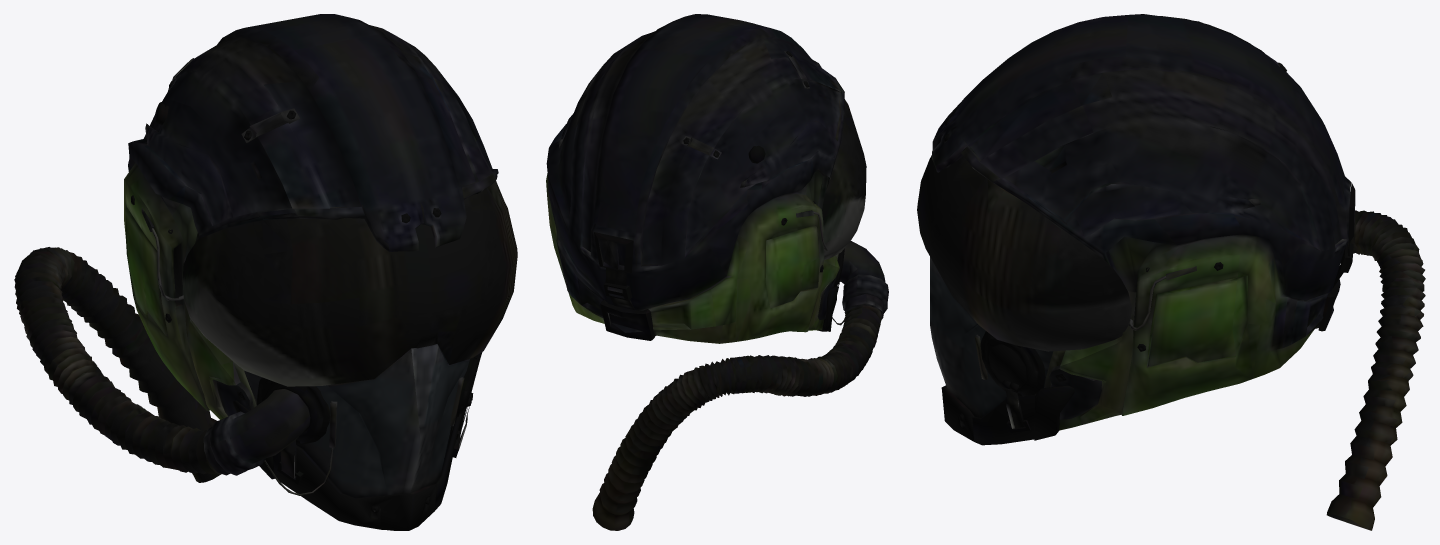
The model's file is item.armor.verdant_vulture_helmet.glb.
The picture shows the model from 3 angles, left to right: view 1: azimuth 30°, elevation 25°; view 2: azimuth 150°, elevation 25°; view 3: azimuth 270°, elevation 25°; orthographic projection. The views are drawn at different scales.
Parts seen in each view (by area): view 1: helmet_t4_verdant_vulture; view 2: helmet_t4_verdant_vulture; view 3: helmet_t4_verdant_vulture.
Part boxes in pixels (bbox=[...]): helmet_t4_verdant_vulture: bbox=[14, 14, 517, 530]; helmet_t4_verdant_vulture: bbox=[546, 14, 888, 530]; helmet_t4_verdant_vulture: bbox=[917, 14, 1425, 530].
Bounding box in the file's own units: 0.8702 × 1.2 × 1.1.
1 material, 1 textured.
